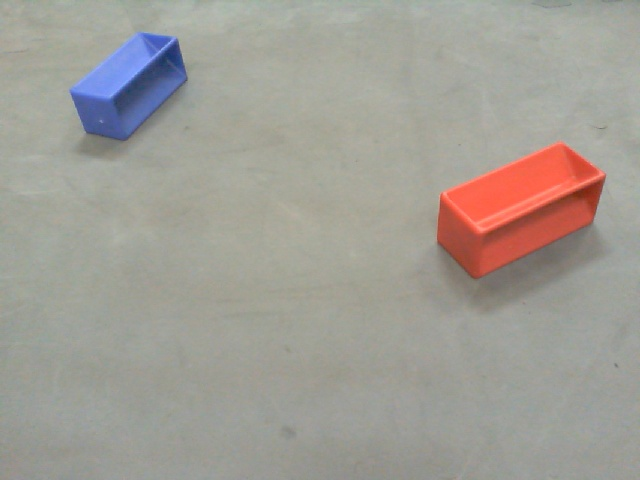BlueSample: (67, 31, 190, 147)
RedSample: (435, 128, 609, 284)
